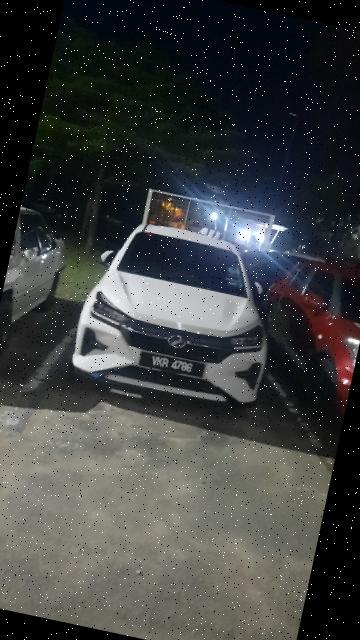License_Plate: (137, 347, 208, 382)
car: (62, 210, 297, 427), (246, 247, 360, 426)
